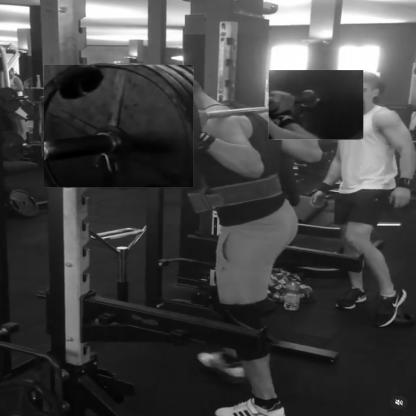barbell: (45, 66, 195, 189), (270, 72, 365, 142)
